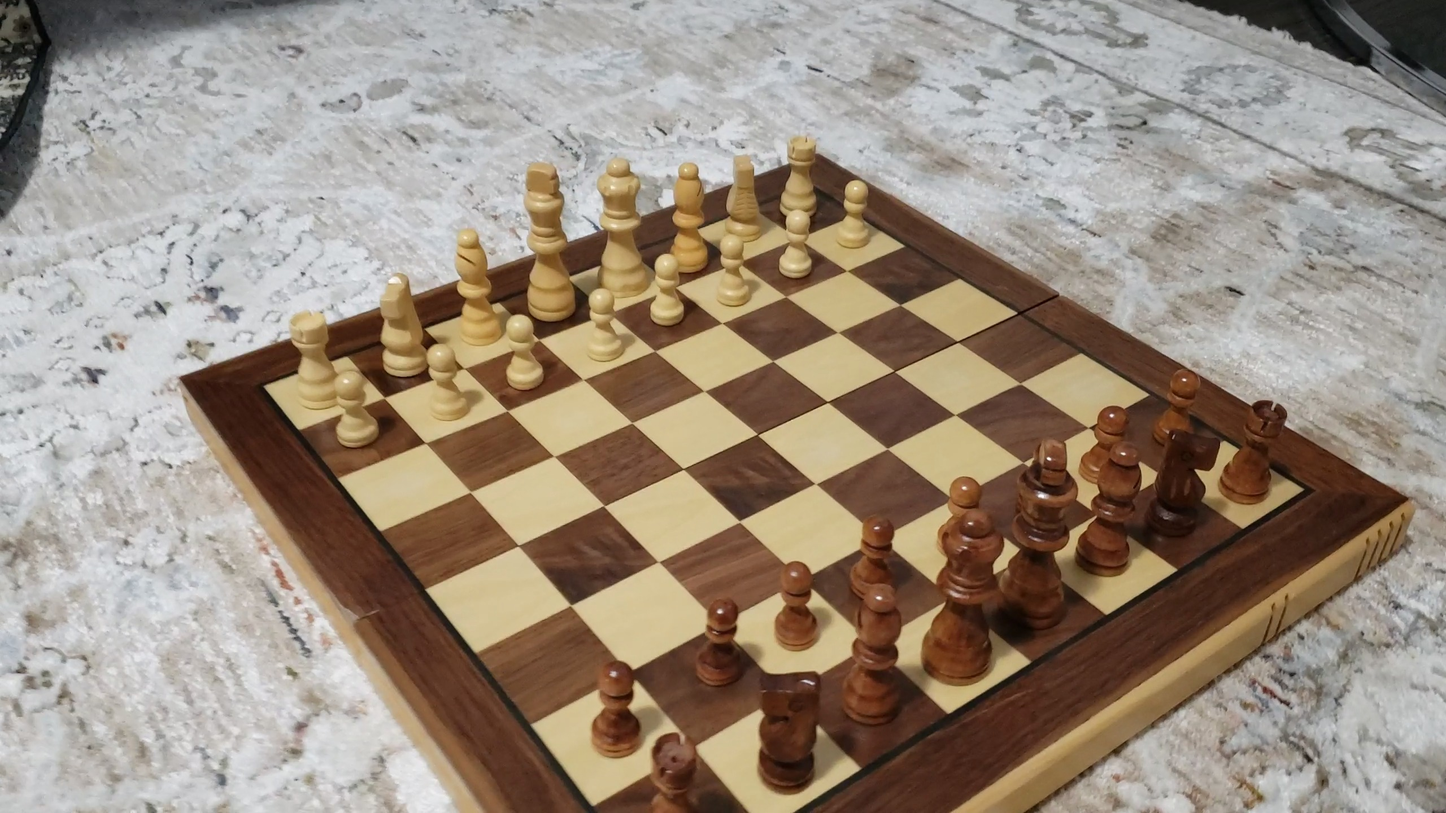black-bishop: (1078, 442, 1146, 576), (844, 579, 905, 725)
black-king: (1000, 438, 1082, 633)
black-knight: (1142, 422, 1226, 539), (755, 668, 823, 791)
black-pawn: (589, 656, 644, 759), (1150, 364, 1207, 451), (694, 595, 746, 690), (1078, 401, 1133, 489), (770, 558, 821, 652), (847, 511, 899, 602), (938, 472, 988, 553)
black-queen: (922, 506, 1005, 686)
black-rook: (1219, 398, 1291, 505), (647, 731, 700, 811)
white-bishop: (451, 225, 501, 348), (669, 158, 709, 278)
white-king: (520, 155, 576, 324)
white-knight: (376, 270, 428, 379), (725, 148, 763, 244)
white-pawn: (418, 340, 474, 426), (328, 370, 385, 453), (706, 226, 758, 314), (497, 311, 550, 395), (579, 285, 630, 368), (770, 204, 820, 283), (642, 250, 690, 331), (827, 175, 876, 253)
white-queen: (595, 154, 649, 300)
white-rook: (289, 307, 338, 411), (782, 130, 822, 223)
